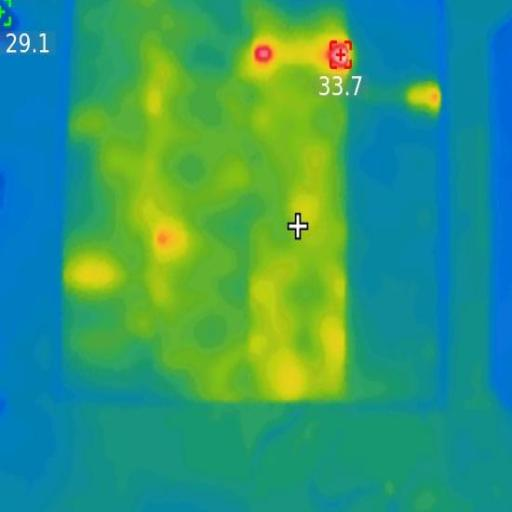hotspot: (330, 38, 354, 74), (253, 43, 277, 69)
